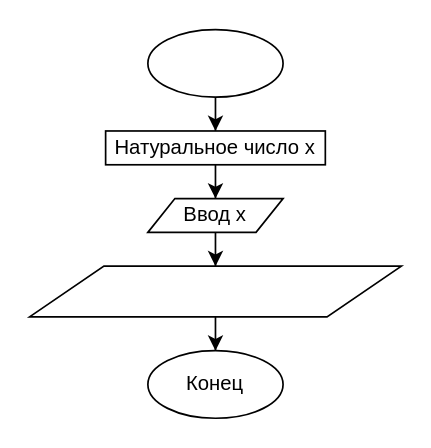
The diagram is 431 pixels wide and 448 high, and some of its shapes have lost their labels. The shapes that lost their labels are listed below. From the top down, each one's centre as x and y in pixels, then its label:
the point at 214,62: Начало
the point at 214,290: Вывод ((x % 2 == x %16 > 7) ? "YES" : "NO")
